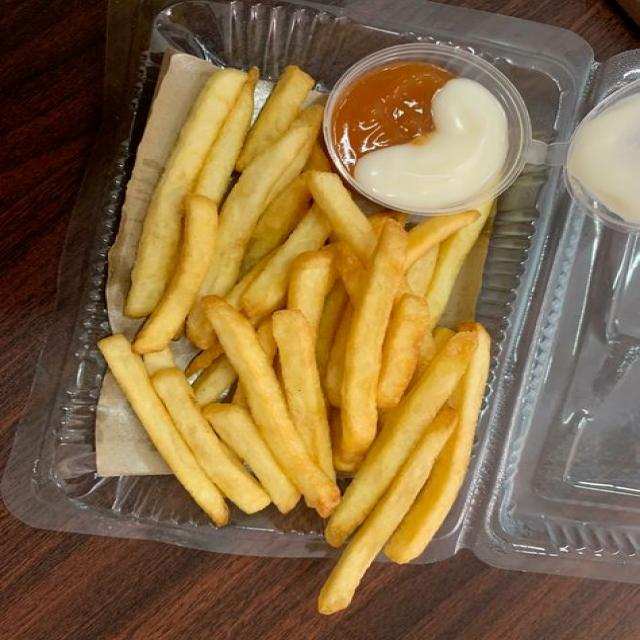kentang goreng: (99, 65, 491, 611)
